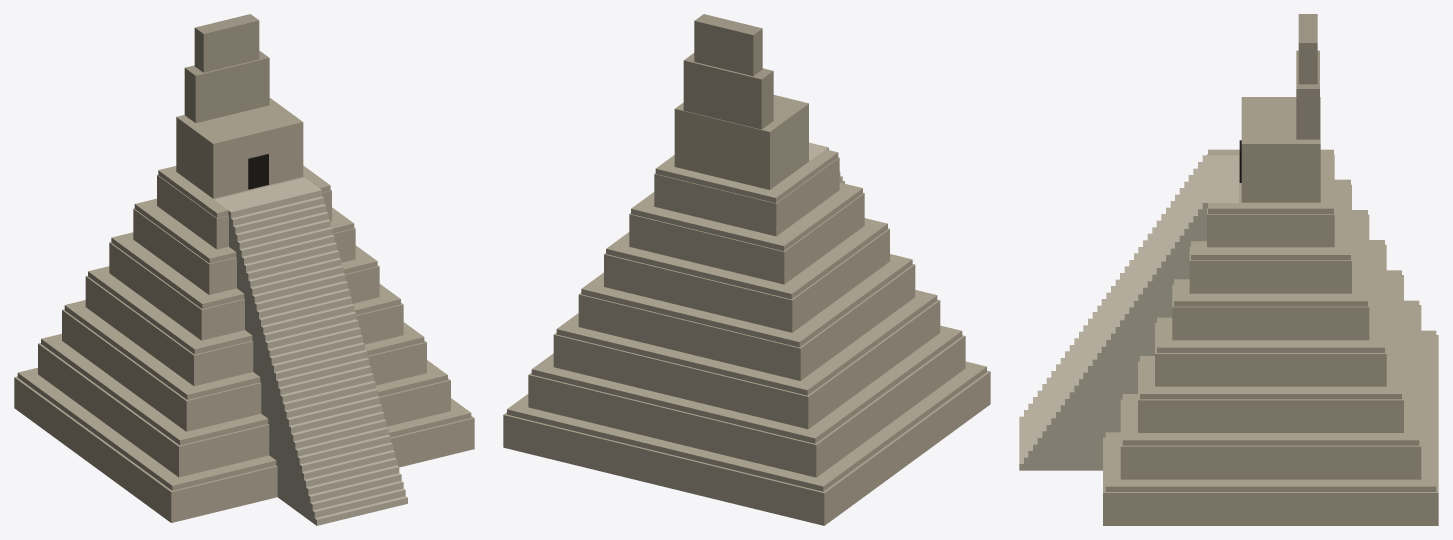
File: meso-tikal-t5-ruin.glb
3 views of the same model, side by side, from view 1: azimuth 30°, elevation 25°; view 2: azimuth 150°, elevation 25°; view 3: azimuth 270°, elevation 25° (orthographic). The views are drawn at different scales.
Visible parts, largest first — view 1: meso-body, meso-stair, meso-shrine, meso-comb, meso-door; view 2: meso-body, meso-shrine, meso-comb; view 3: meso-body, meso-stair, meso-shrine, meso-comb.
Part boxes in pixels (left/top/right/bottom): meso-body: left=14, top=165, right=474, bottom=522; meso-stair: left=214, top=177, right=407, bottom=525; meso-shrine: left=176, top=98, right=303, bottom=198; meso-comb: left=184, top=14, right=269, bottom=122; meso-door: left=248, top=154, right=268, bottom=189; meso-body: left=503, top=149, right=990, bottom=525; meso-shrine: left=674, top=95, right=808, bottom=189; meso-comb: left=683, top=14, right=773, bottom=129; meso-body: left=1103, top=149, right=1438, bottom=525; meso-stair: left=1019, top=155, right=1238, bottom=470; meso-shrine: left=1241, top=97, right=1320, bottom=202; meso-comb: left=1296, top=14, right=1319, bottom=139.
Size of the model in its own units: 46.2 by 57 by 51.8.
